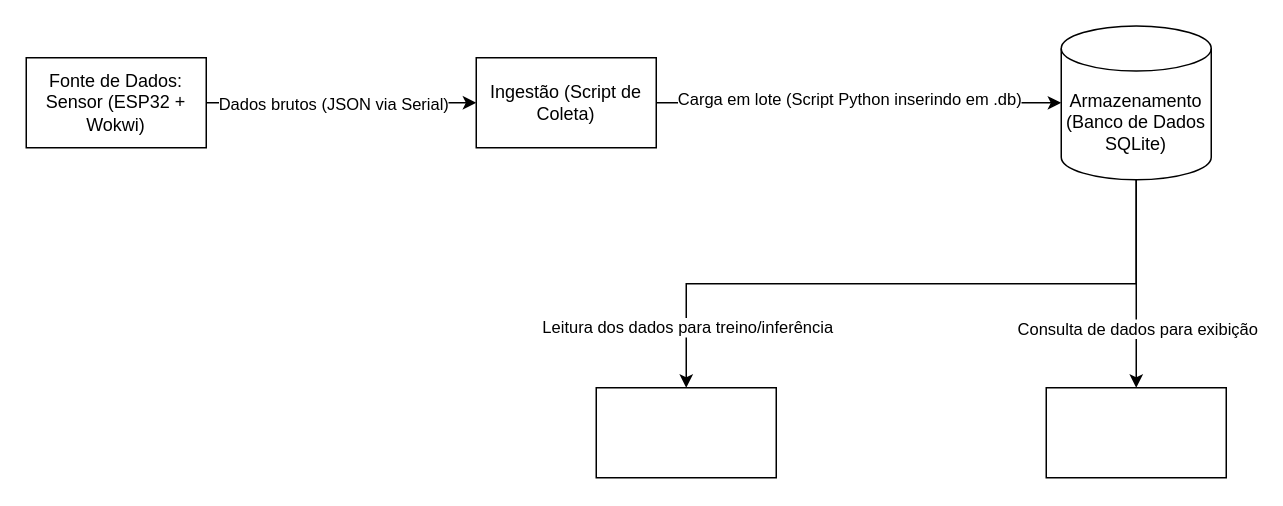
Some shapes in this 1283 by 506 pixel diagram are drawn without their labels. The box of each missing label's shape, as (x1, y1, x2, y2) in pixels:
Processamento (Modelo de ML): (595, 386, 776, 478)
Visualização (Dashboard Streamlit): (1045, 386, 1226, 478)
